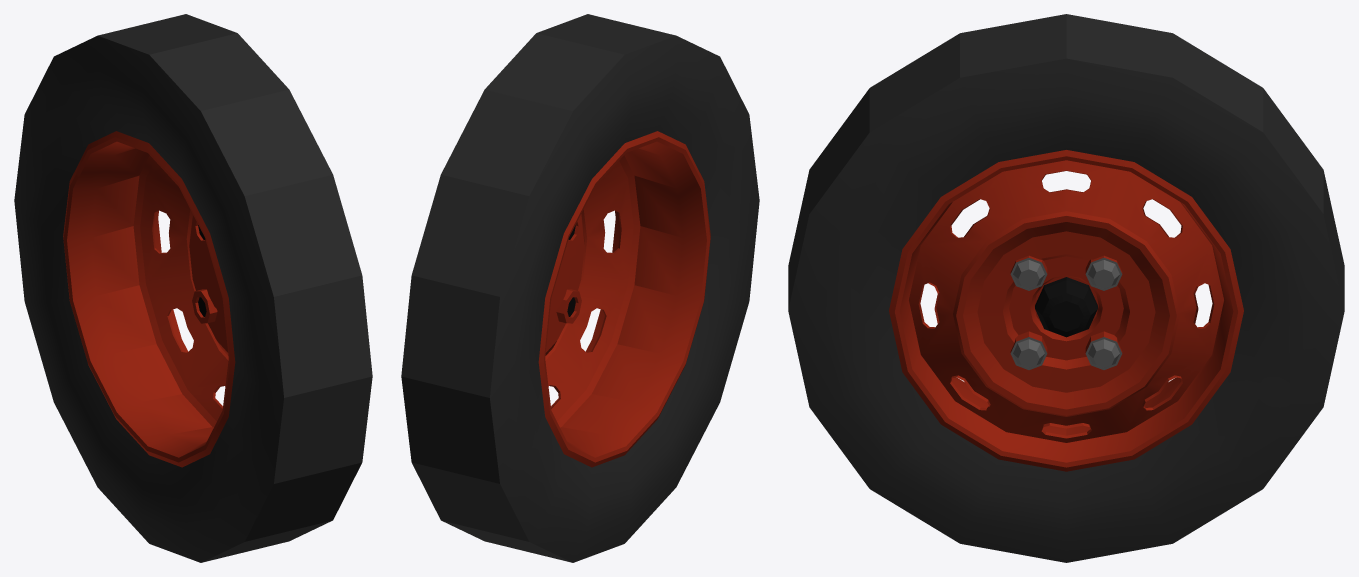
The model's file is steel.glb.
3 views of the same model, side by side, from view 1: azimuth 30°, elevation 25°; view 2: azimuth 150°, elevation 25°; view 3: azimuth 270°, elevation 25° (orthographic). The views are drawn at different scales.
Parts seen in each view (by area): view 1: rim; view 2: rim; view 3: rim.
Boxes of the visible parts, left/top/right/bottom form: rim: left=14, top=14, right=372, bottom=562; rim: left=401, top=14, right=759, bottom=562; rim: left=788, top=14, right=1344, bottom=562.
Bounding box in the file's own units: 0.4746 × 2 × 2.
